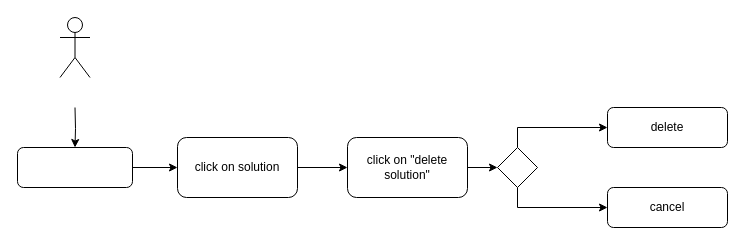
Some shapes in this 745 by 245 pixel diagram are drawn without their labels. Here are the shapes that lost their labels. From the top down, the centre of each, then its label:
At (x=74, y=47): "Leader".
At (x=74, y=167): "click on the tasks".
